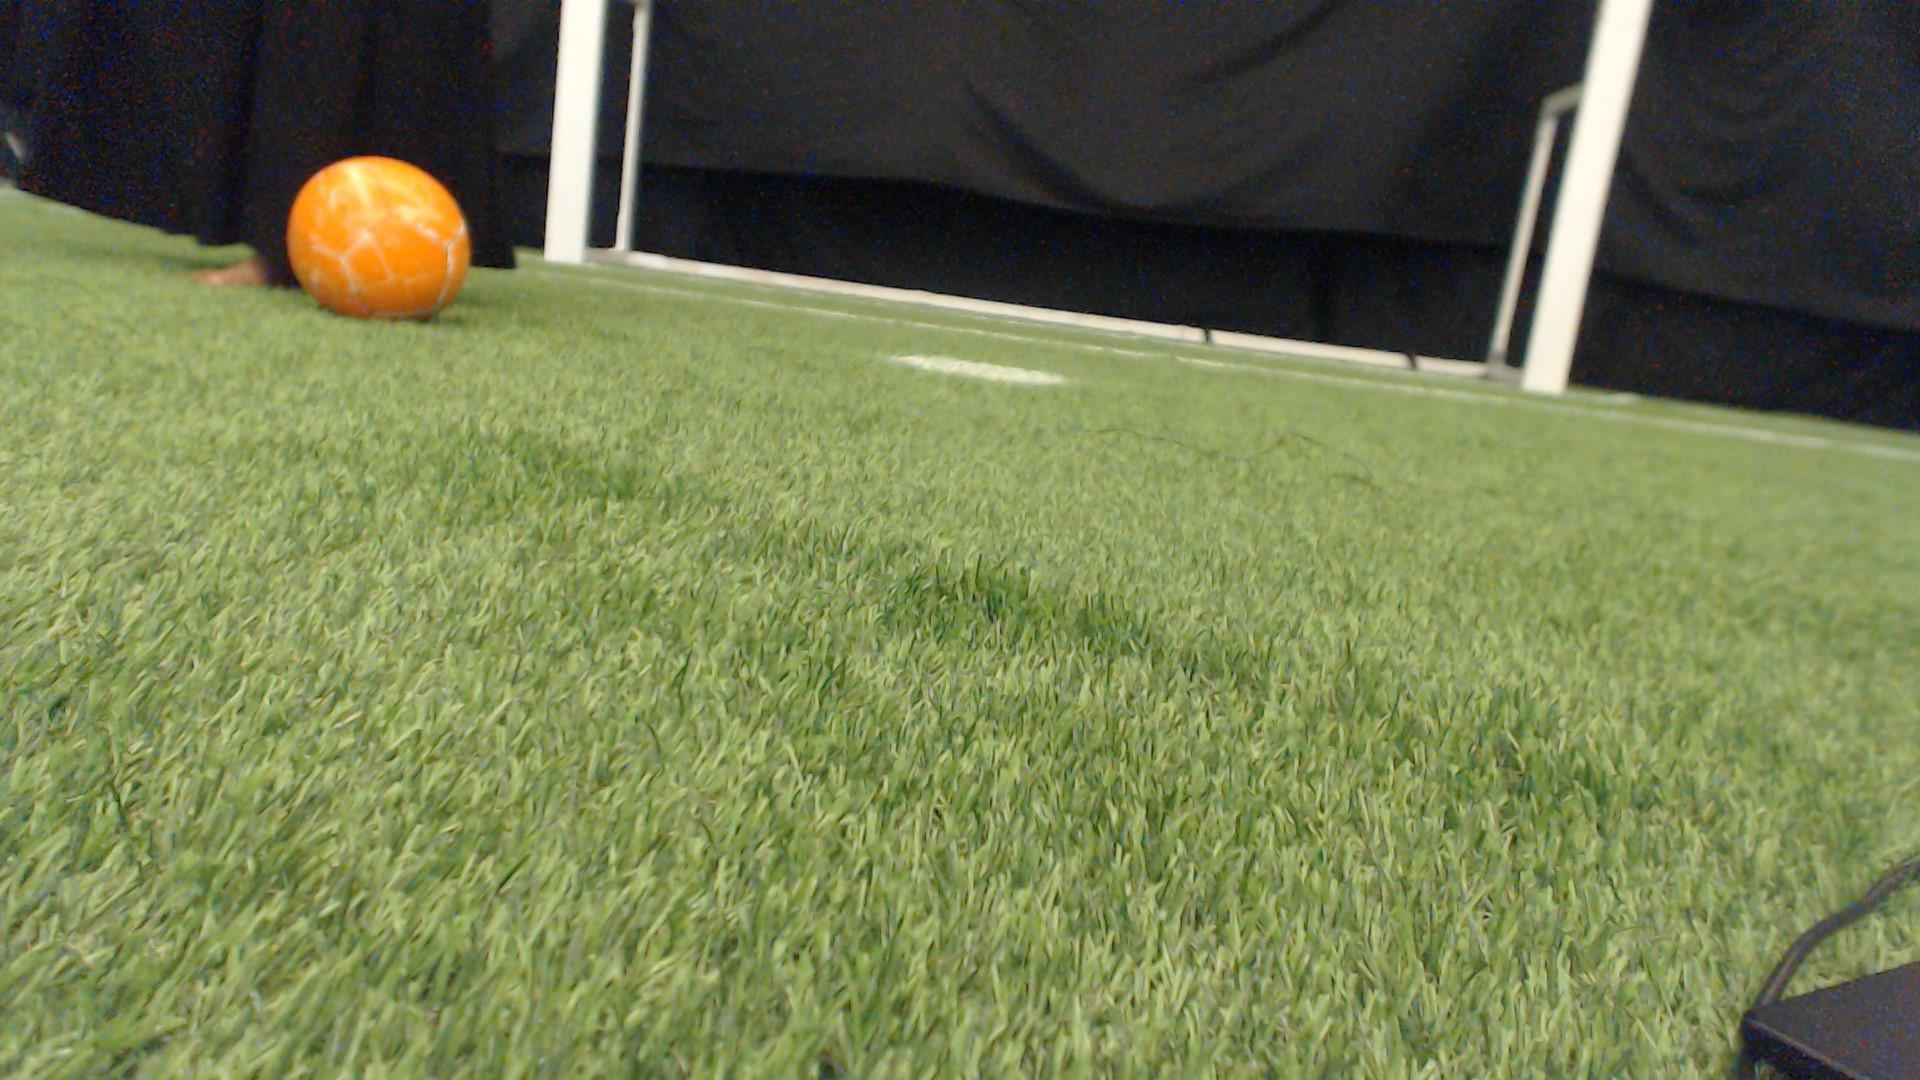bola: (268, 145, 488, 338)
